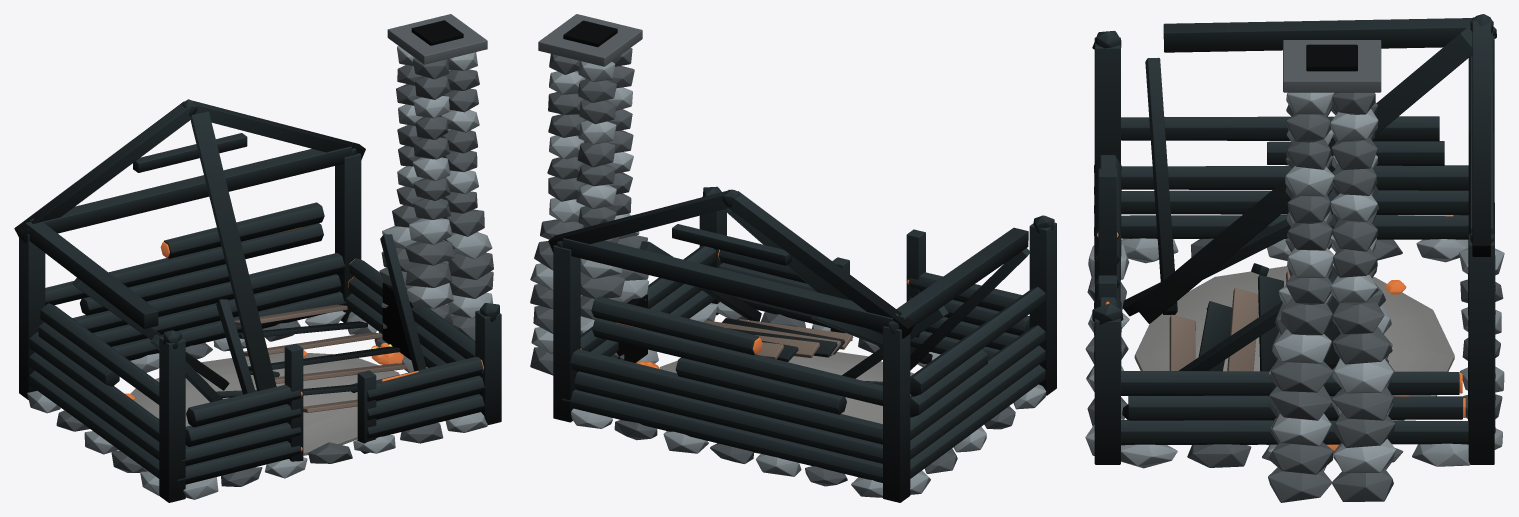
The model's file is burned_cabin.glb.
3 renders of one model, left to right at view 1: azimuth 30°, elevation 25°; view 2: azimuth 150°, elevation 25°; view 3: azimuth 270°, elevation 25°, orthographic. The views are drawn at different scales.
Visible parts, largest first — view 1: burned_cabin; view 2: burned_cabin; view 3: burned_cabin.
Part boxes in pixels (box(x1,y1,x2,y2)): burned_cabin: box(14, 14, 501, 502); burned_cabin: box(530, 14, 1056, 502); burned_cabin: box(1085, 14, 1504, 502).
Size of the model in its own units: 6.7 by 5.13 by 4.48.
Materials: 5 (5 with a texture image).
